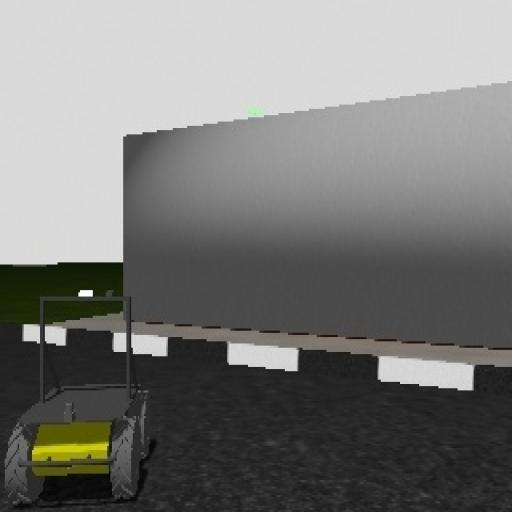huskya200: (1, 281, 165, 512)
